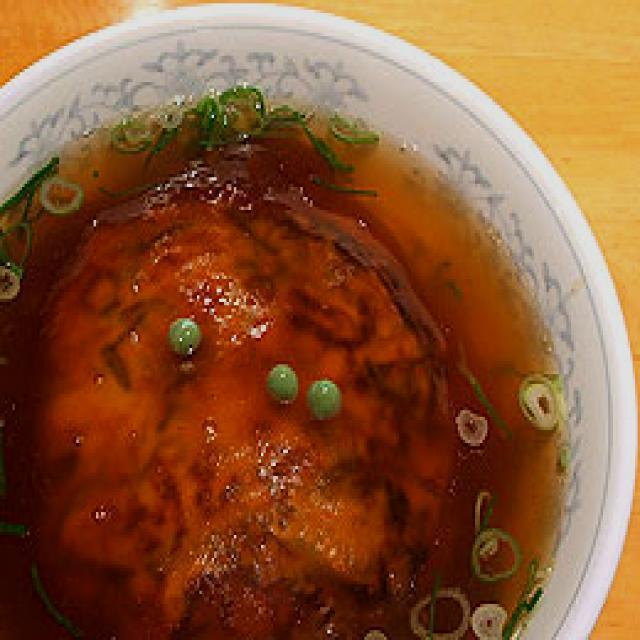tensin-noodle: (0, 121, 566, 637)
